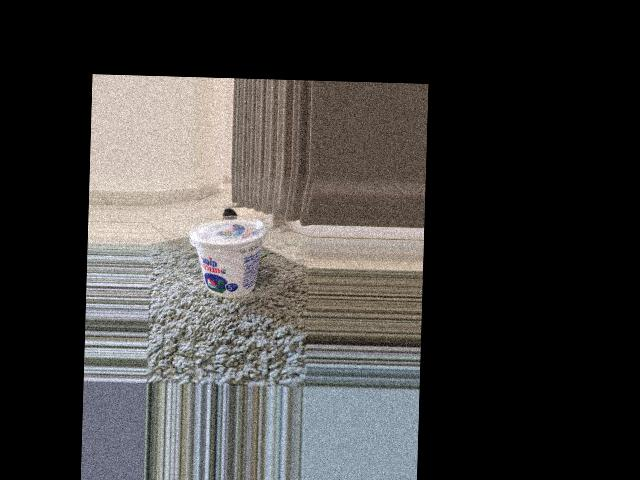cotage: (192, 214, 263, 300)
